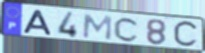4: (56, 11, 79, 39)
8: (146, 18, 168, 46)
A: (22, 9, 54, 37)
C: (172, 20, 201, 49), (113, 17, 142, 43)
M: (82, 13, 113, 42)
